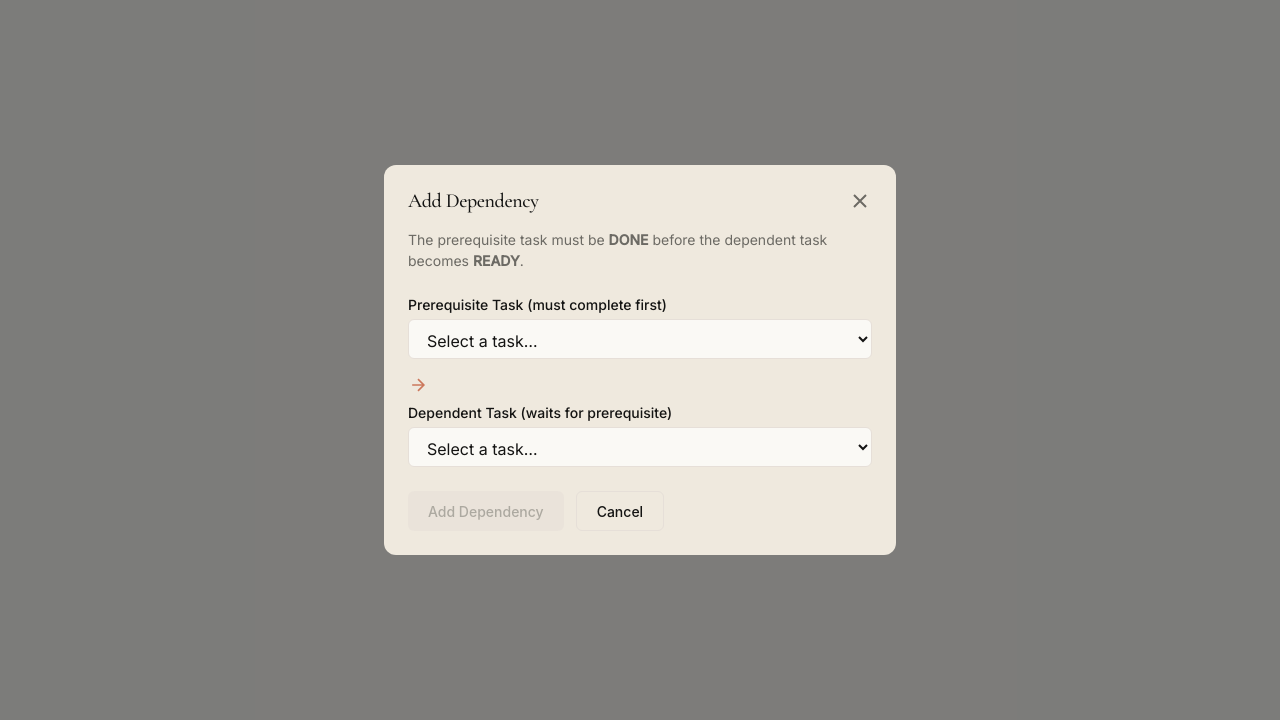
Test: AddDependencyModal › shows the engine's reason and keeps the modal open when it refuses
Select "Design schema (BACKLOG)" in the dropdown below "Prerequisite Task (must complete first)" at coordinates (640, 339), box [408,319,872,359]
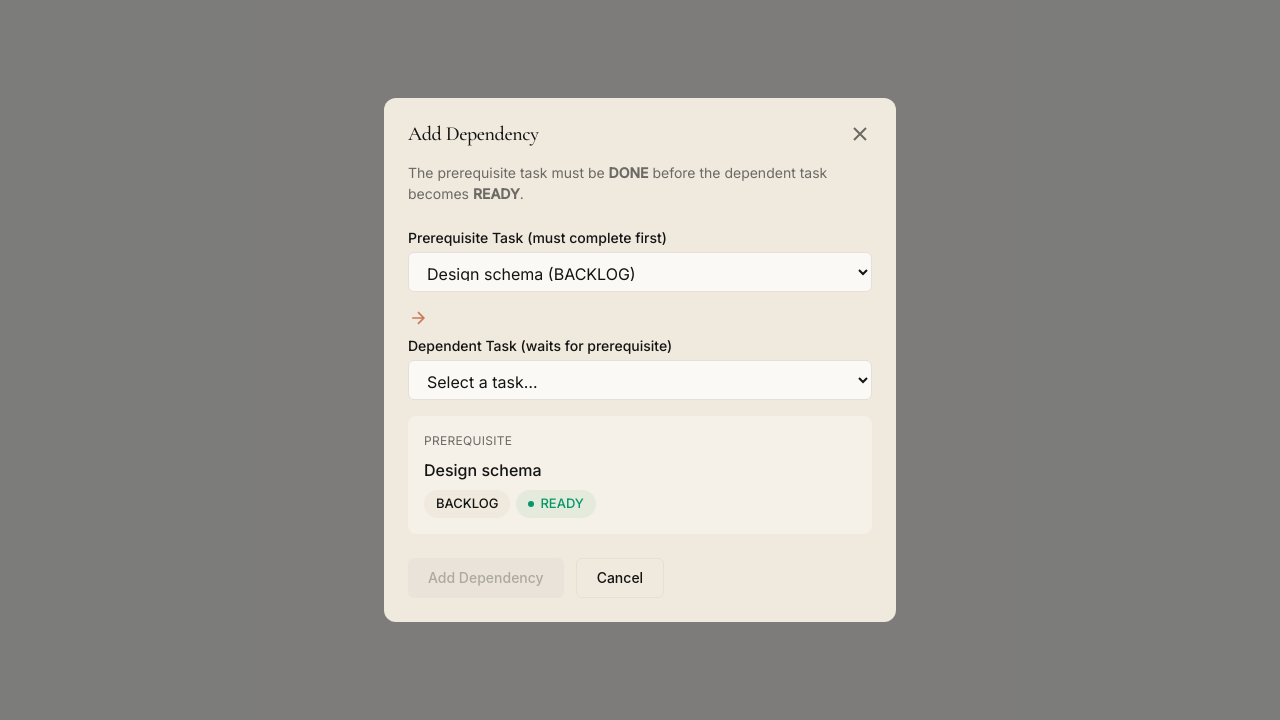
Select "Write docs (BACKLOG)" in the dropdown below "Dependent Task (waits for prerequisite)" at coordinates (640, 380), box [408,360,872,400]
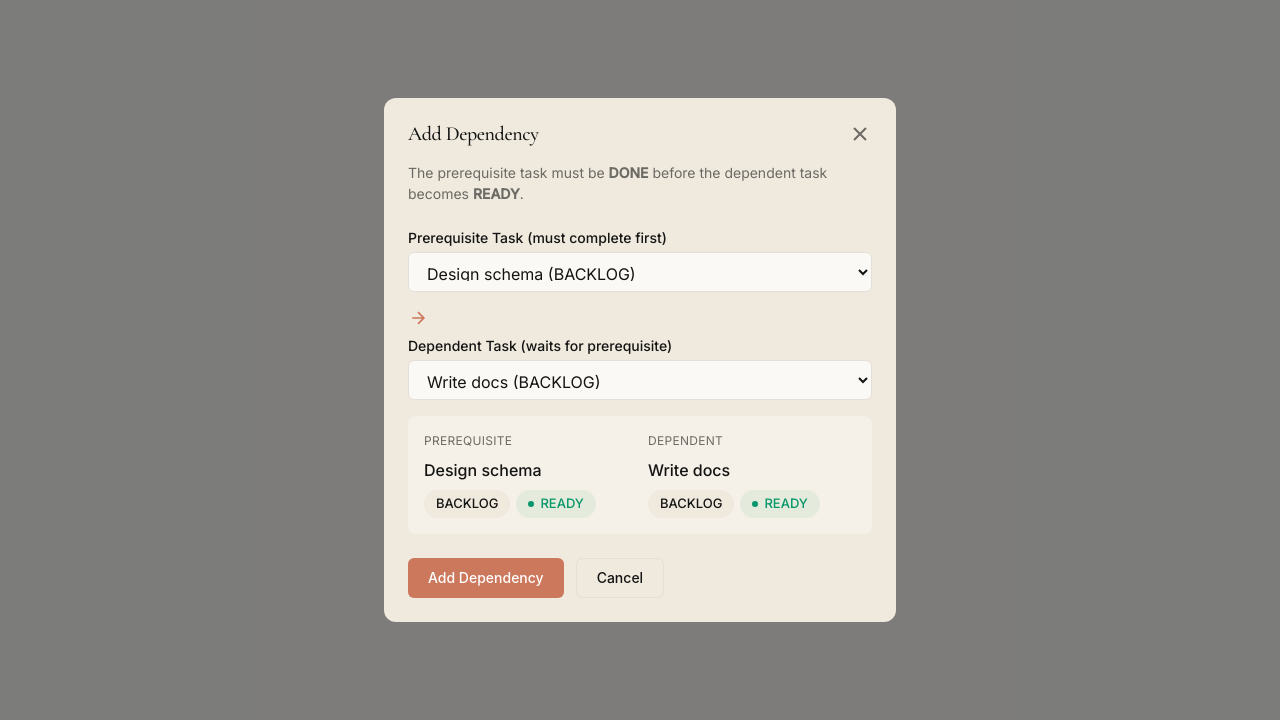
Click the button "Add Dependency" at coordinates (486, 578), box [408,558,564,598]
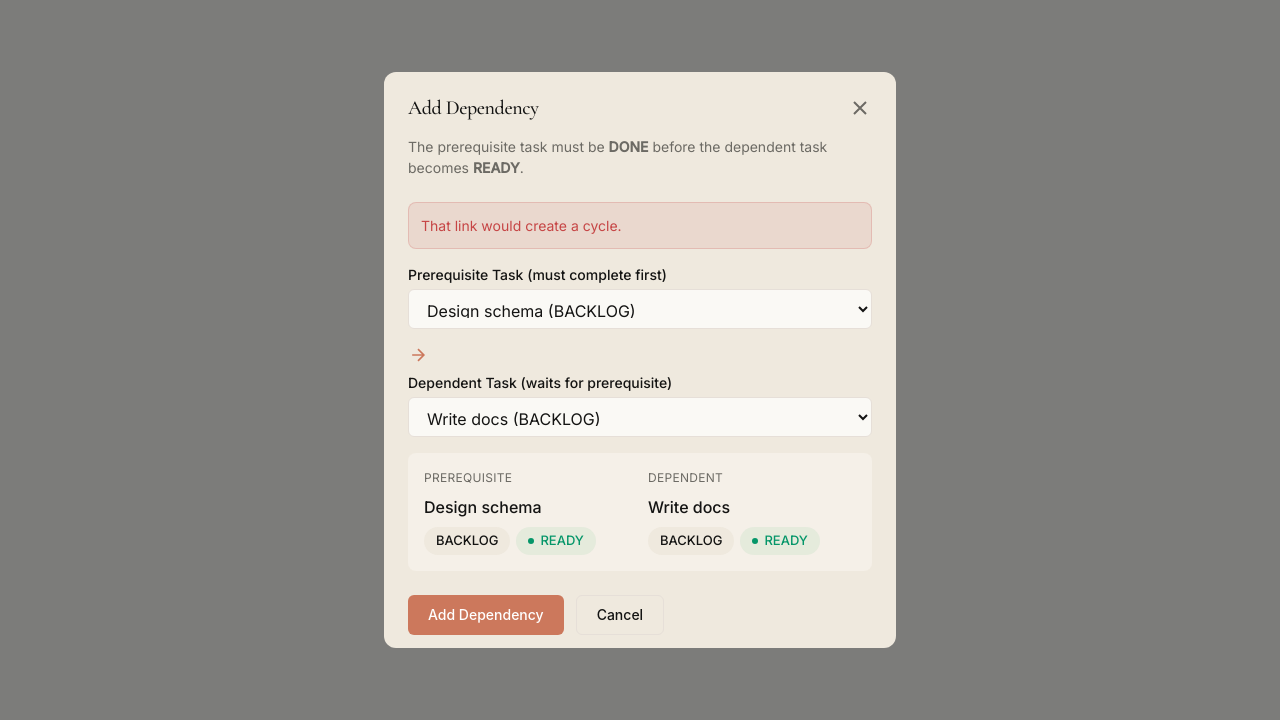
Now the text "That link would create a cycle." is shown, box [408,202,872,249]
